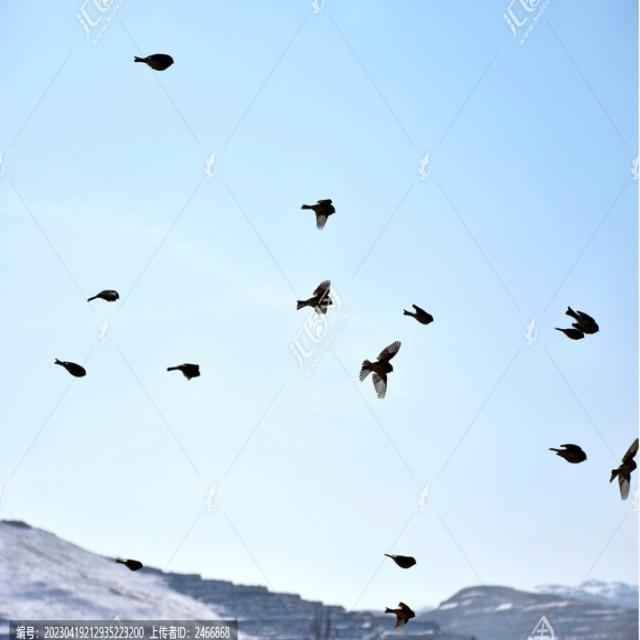bird: (358, 340, 403, 400), (606, 436, 640, 500), (293, 274, 337, 316), (49, 346, 90, 388), (378, 592, 418, 635), (130, 46, 181, 78), (295, 192, 337, 230), (550, 434, 590, 470), (164, 356, 208, 388), (383, 538, 418, 577), (400, 300, 440, 328), (572, 302, 608, 330), (554, 323, 590, 351), (88, 282, 122, 308)
